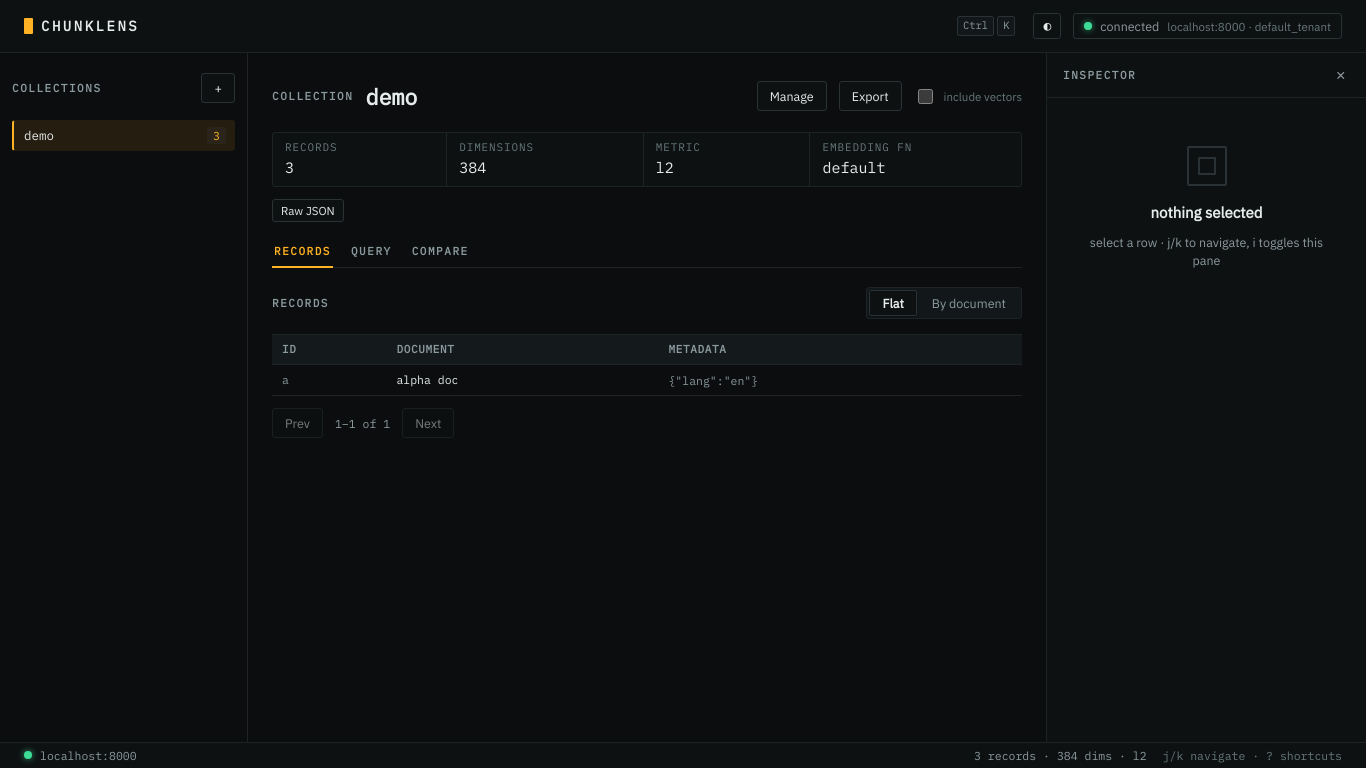
Test case: the inspector collapses to a reopen strip and expands back
Check: the element "Inspector" is shown, box [1046, 53, 1365, 742]
Click the button named "close inspector": (1341, 75) [1332, 65, 1350, 85]
(page scrolled)
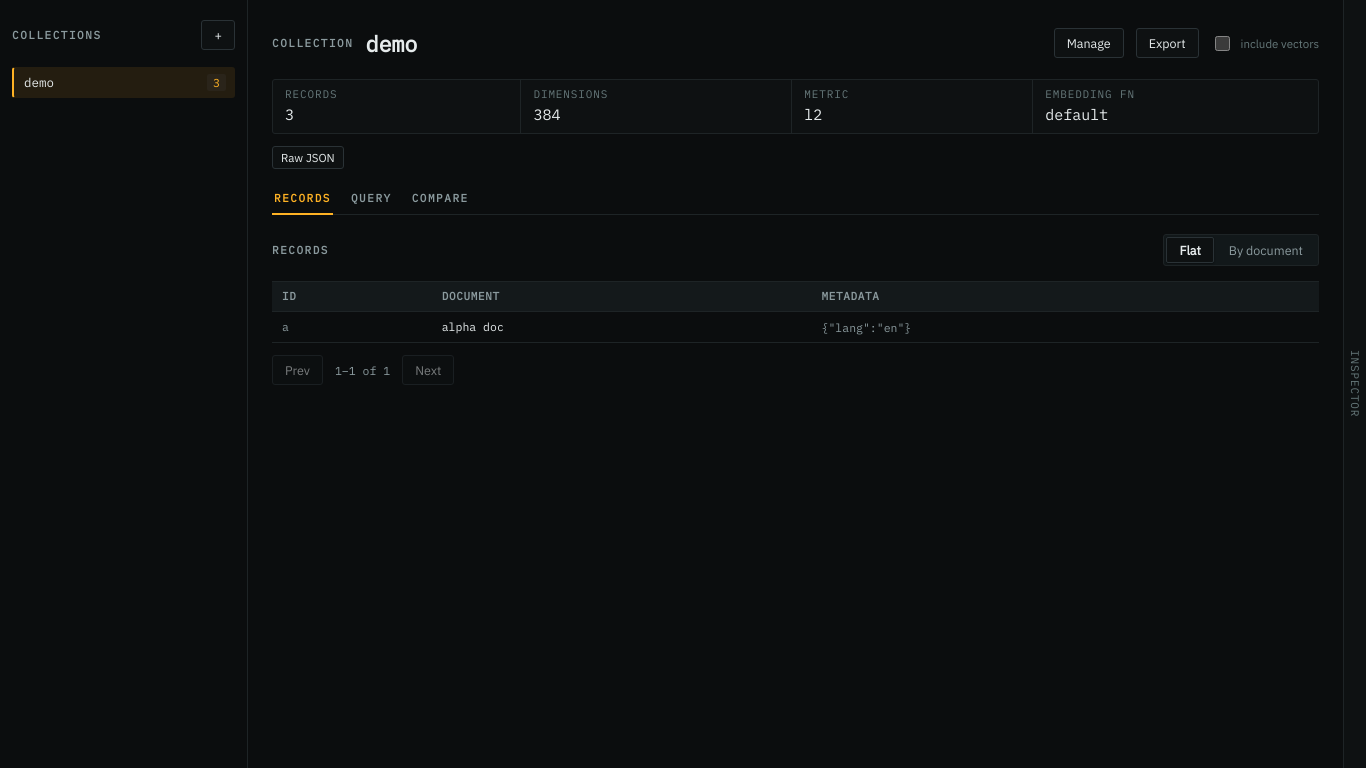
Check: the button "✕" is gone
Click the button with aria-label "open inspector": (1355, 384) [1344, 0, 1365, 767]
(page scrolled)
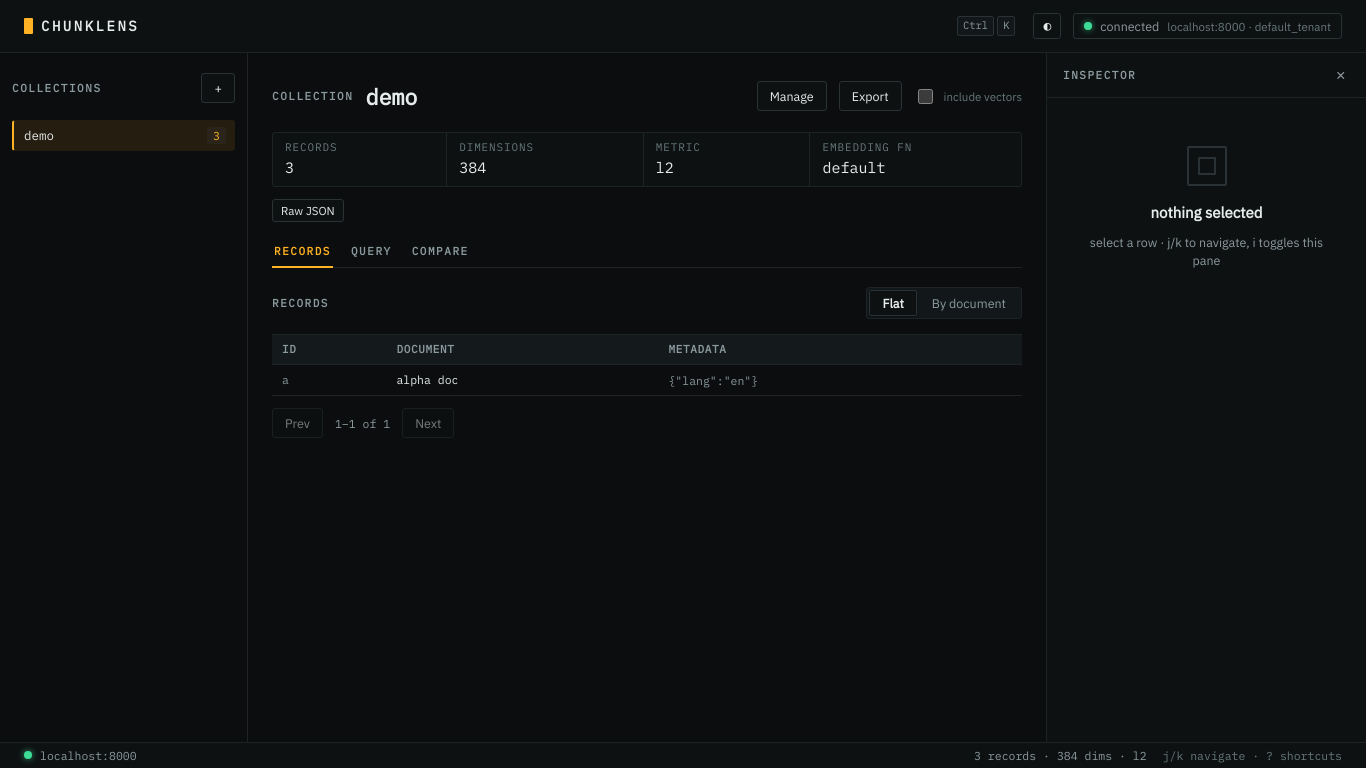
Check: the element "Inspector" is shown, box [1046, 53, 1365, 742]
